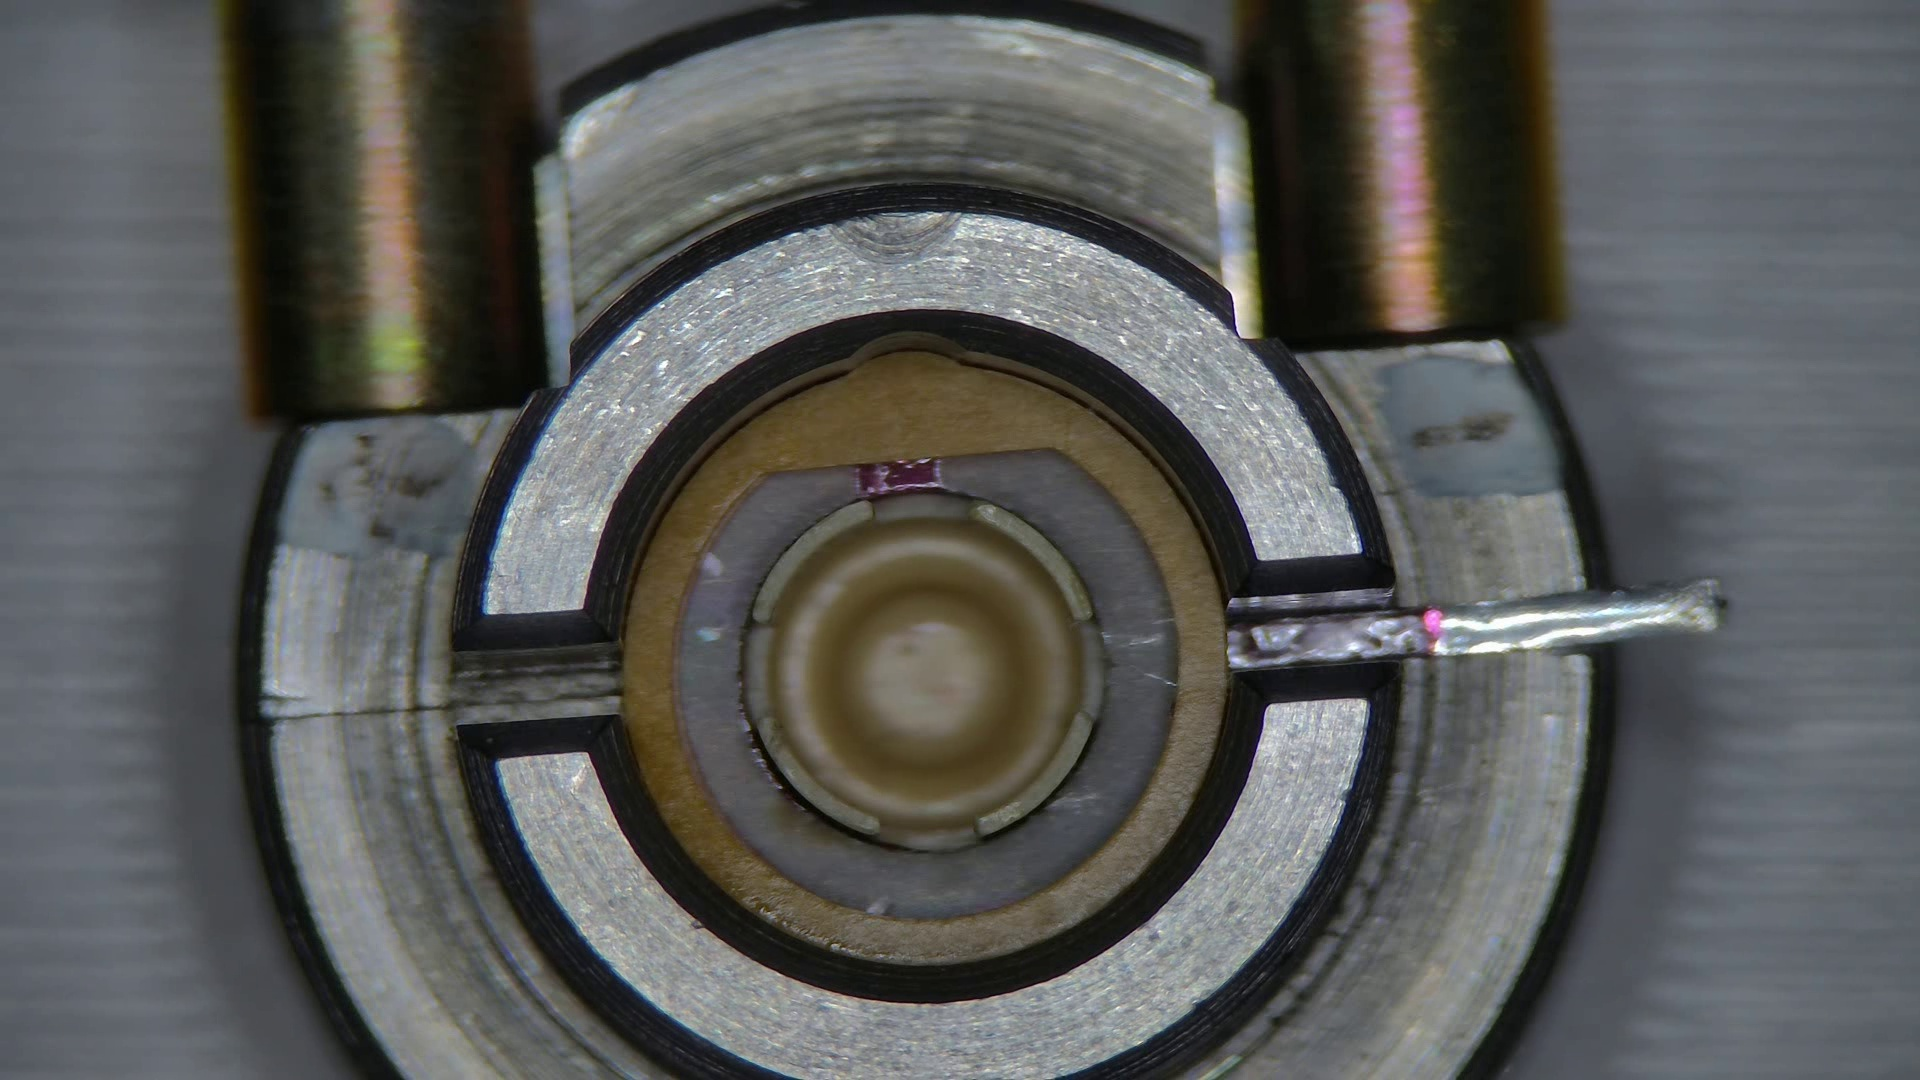YellowOring: (679, 458, 1175, 918)
redOring: (624, 348, 1226, 957)
